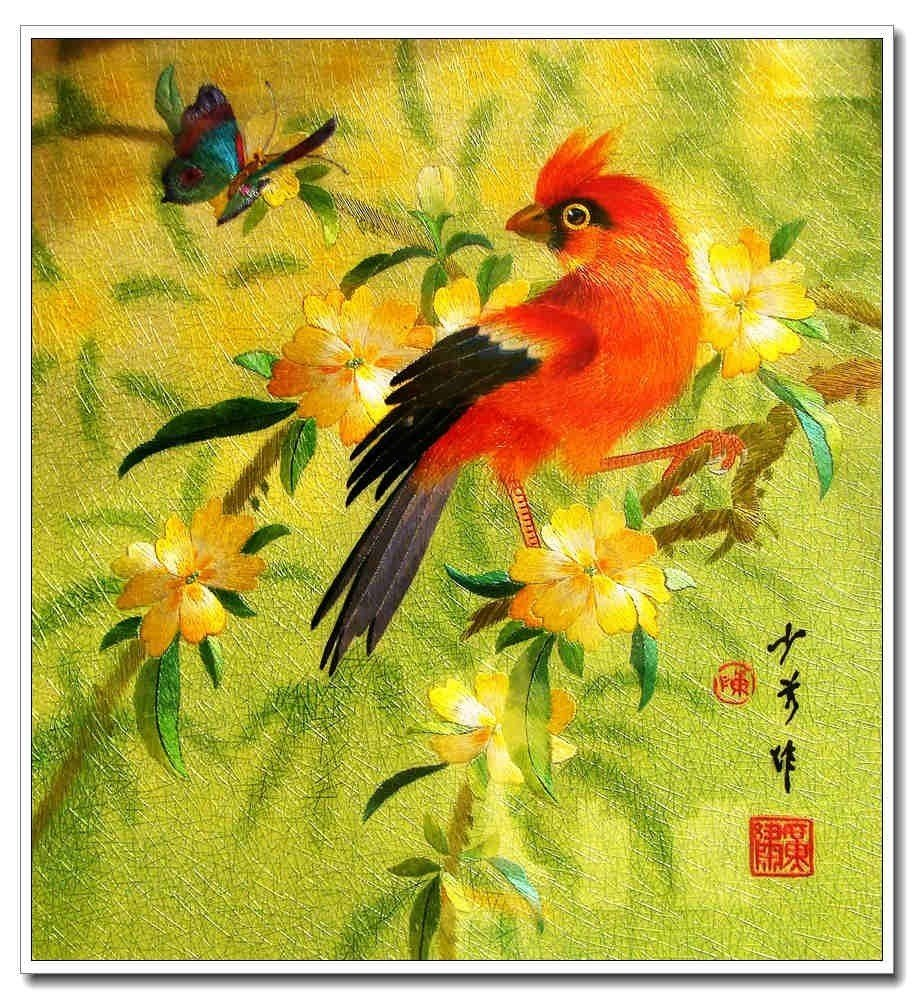bird: (290, 124, 705, 675)
flower: (504, 497, 678, 646), (268, 287, 437, 439), (110, 501, 268, 658), (419, 665, 577, 789), (704, 221, 817, 379)
